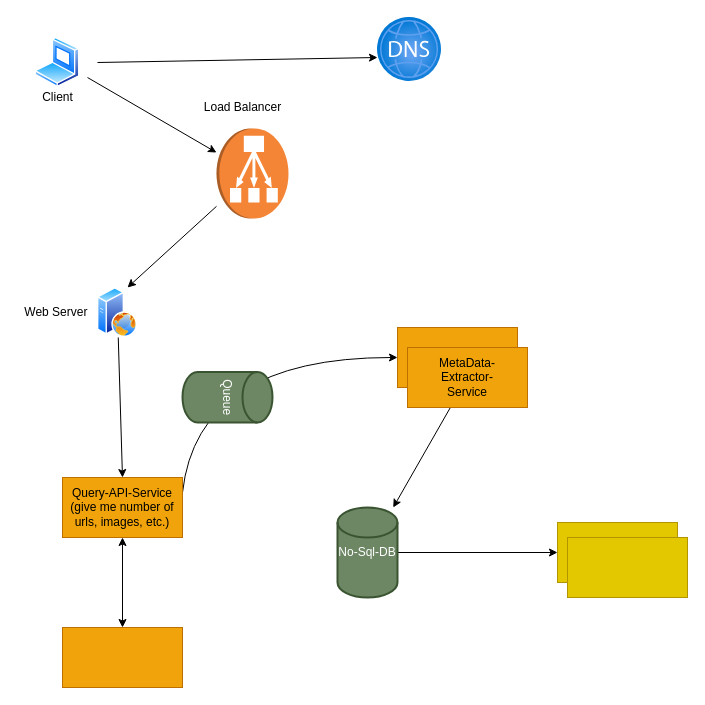
Image size: 705x705. Some labels were removed from this diagram. The shapes that lost their labels are listed below. From the top down, each one's box as (x1, y1, x2, y2) in pixels, then its label:
(566, 536, 688, 598): Analytics Service
(62, 626, 182, 688): Cache Memory
